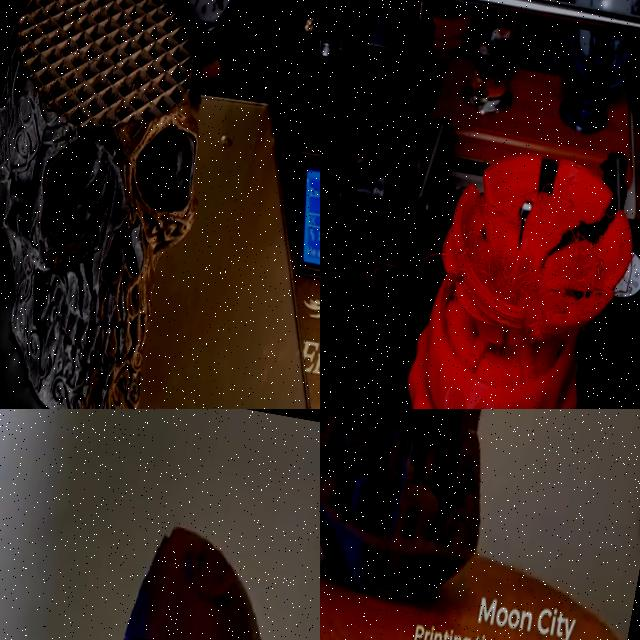spaghetti: (440, 156, 616, 322), (363, 256, 402, 303), (609, 339, 632, 368)
